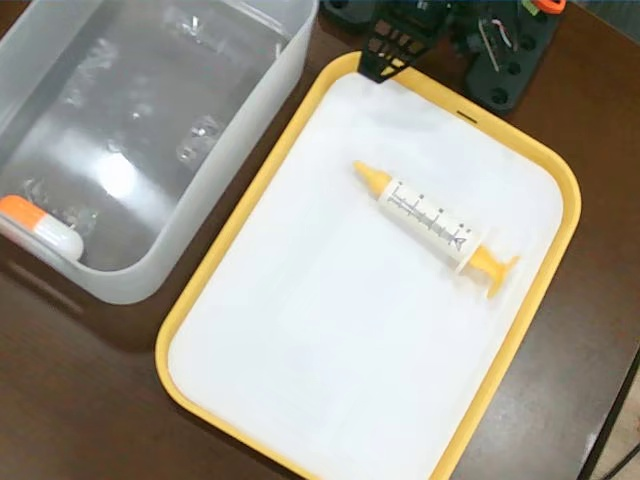pill: (1, 191, 85, 271)
syringe: (346, 159, 524, 297)
